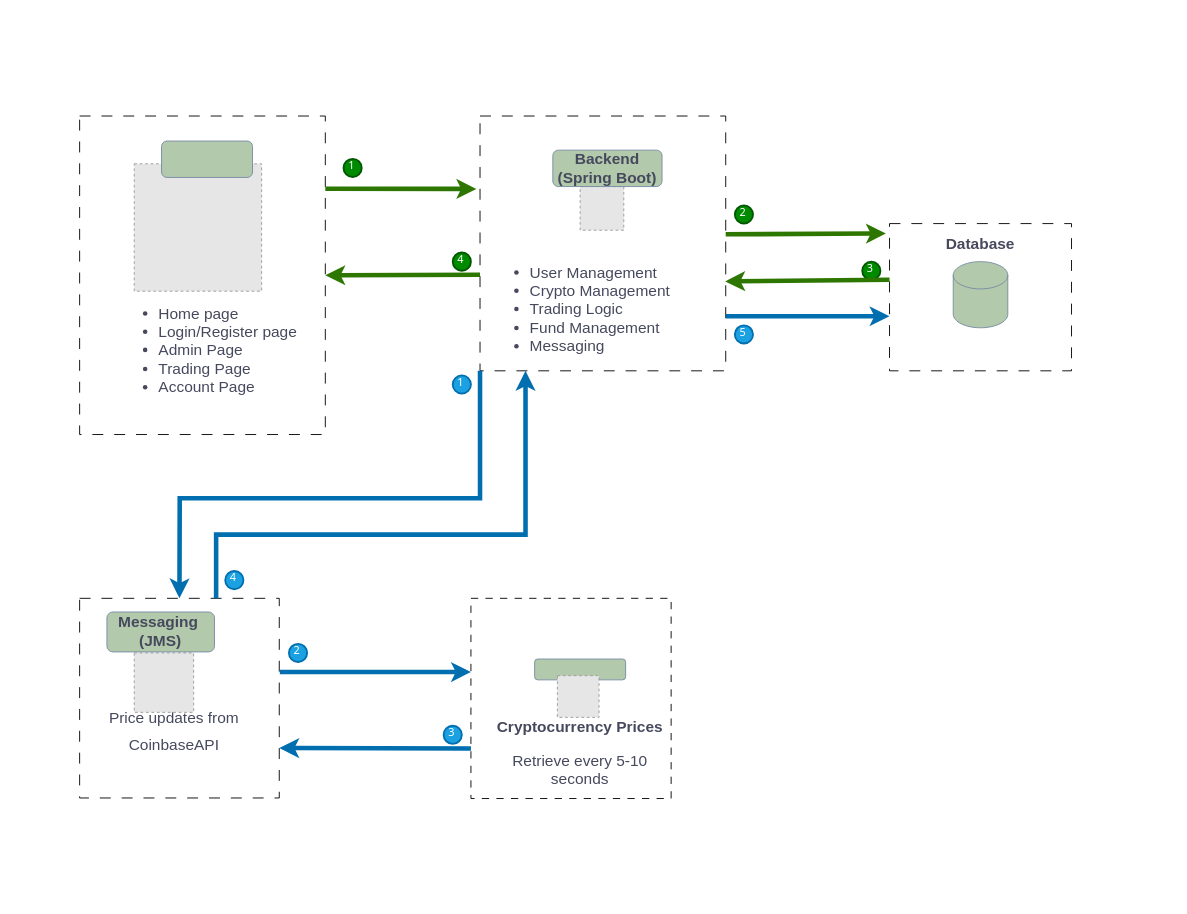
The diagram is 1187 pixels wide and 914 high, and some of its shapes have lost their labels. Grey dashed boxes stand in for pictures. The shapes that lost their labels are listed below. From the top down, each one's centre as x and y in pixels, then its label:
(207,158): FrontEnd (React)
(580,669): Coinbase
